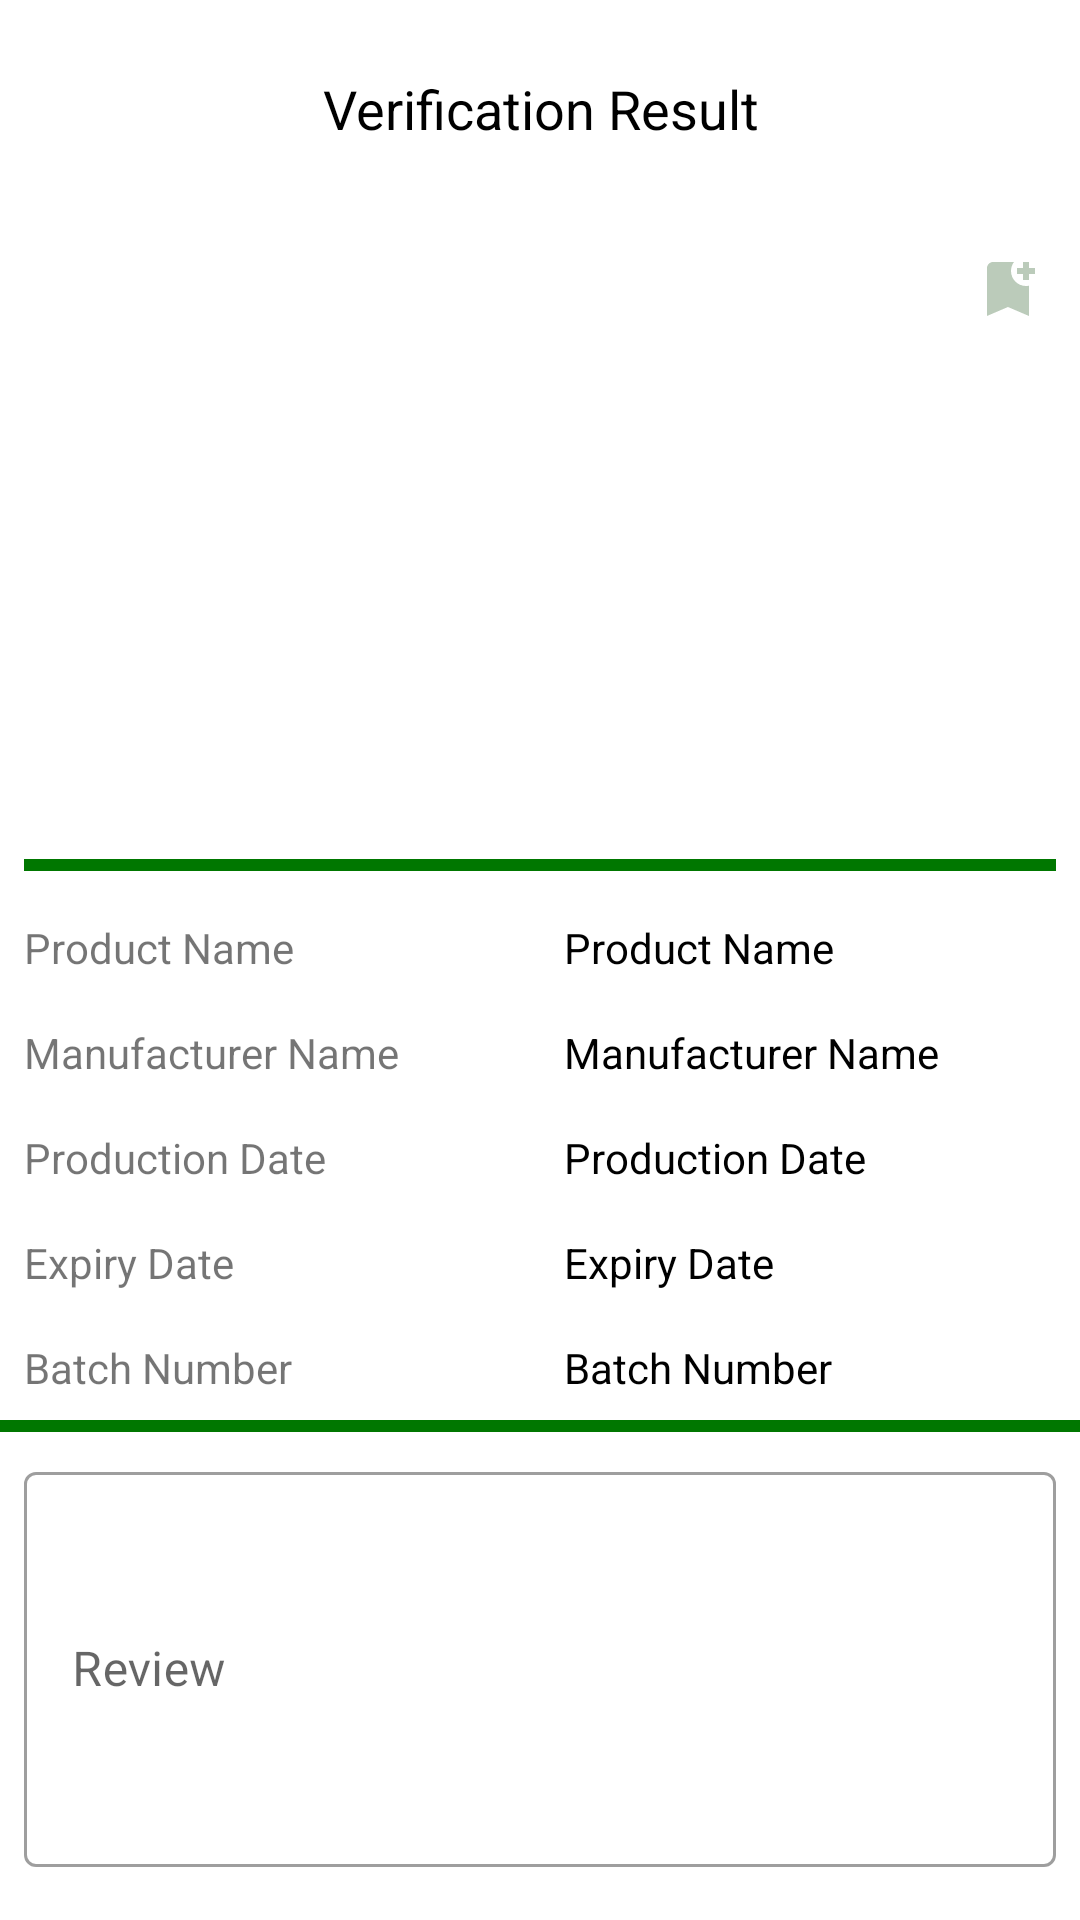

Icons on this 1080px x 1920px Android screen, each with the point to tap as point (x, y):
bookmark add: point (1011, 289)
